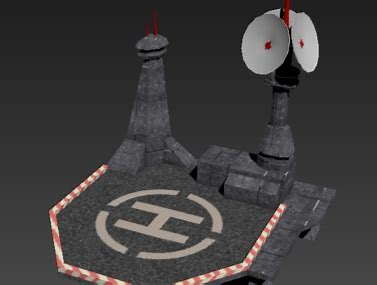H: (112, 200, 205, 244)
